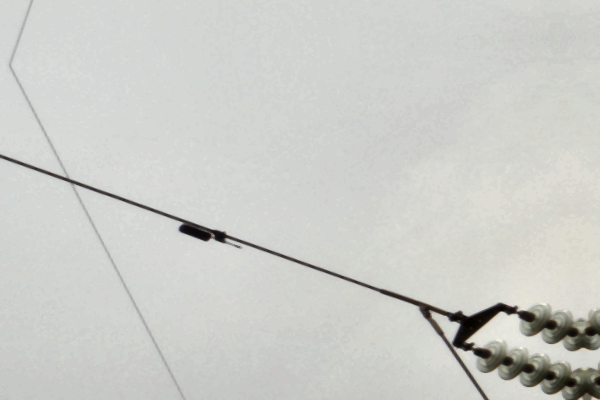damper_defect: (176, 221, 244, 250)
